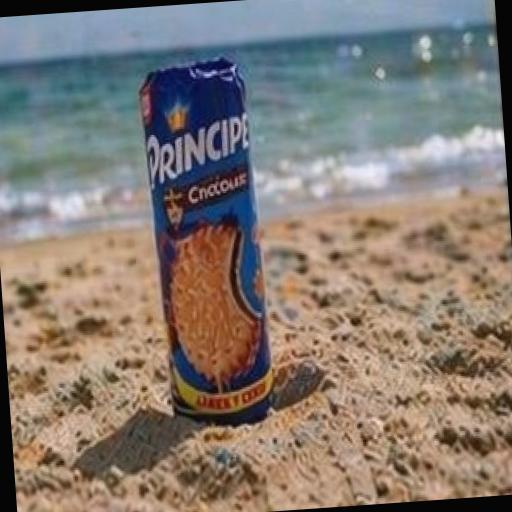prince: (66, 19, 356, 468)
